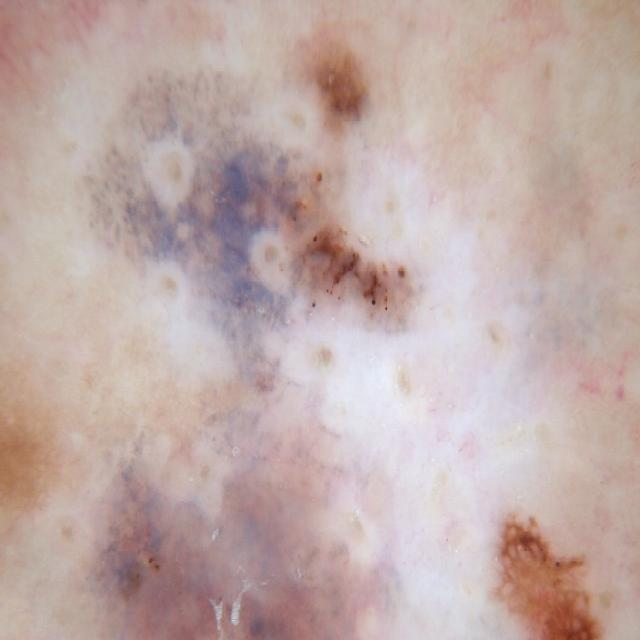Melanoma: (79, 31, 635, 640)
